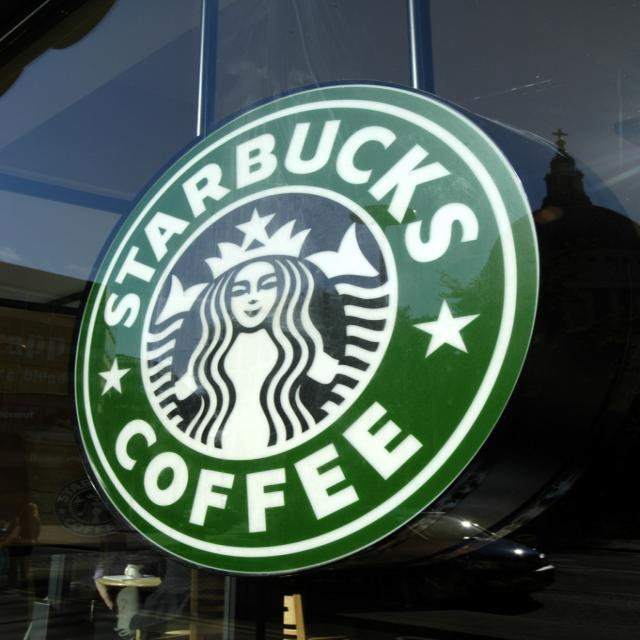starbucks: (73, 85, 538, 576)
